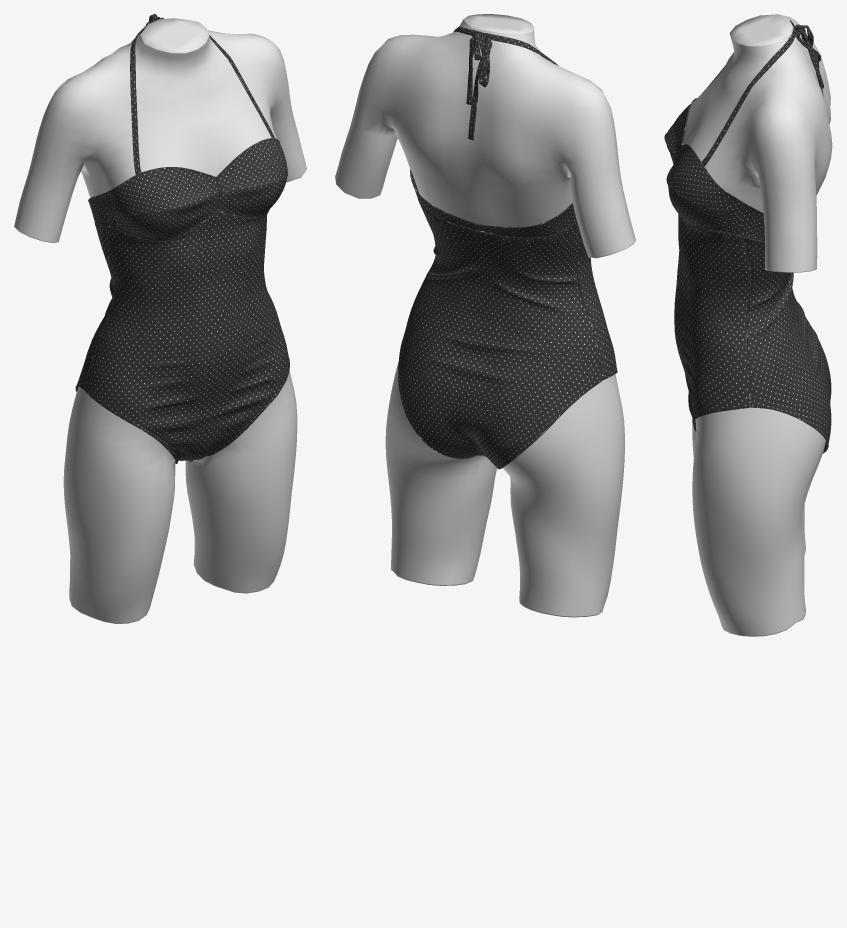
The model's file is Swimsuit_B.gltf.
The picture shows the model from 3 angles, left to right: view 1: azimuth 30°, elevation 25°; view 2: azimuth 150°, elevation 25°; view 3: azimuth 270°, elevation 25°; orthographic projection. The views are drawn at different scales.
Parts seen in each view (by area): view 1: AvatarMujer_quads, Swimsuit_B_01_Main; view 2: AvatarMujer_quads, Swimsuit_B_01_Main; view 3: AvatarMujer_quads, Swimsuit_B_01_Main.
Boxes of the visible parts, x1,y1,x2,y2 form: AvatarMujer_quads: (14, 18, 306, 623); Swimsuit_B_01_Main: (75, 14, 289, 463); AvatarMujer_quads: (335, 14, 635, 617); Swimsuit_B_01_Main: (398, 26, 617, 469); AvatarMujer_quads: (682, 14, 832, 636); Swimsuit_B_01_Main: (664, 20, 831, 453).
Size of the model in its own units: 0.521 by 1.53 by 0.2624.
Materials: 2 (1 with a texture image).
